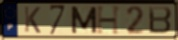2: (125, 5, 145, 36)
7: (49, 4, 68, 36)
B: (147, 5, 173, 35)
H: (96, 5, 123, 36)
K: (23, 6, 42, 35)
M: (69, 5, 99, 35)
